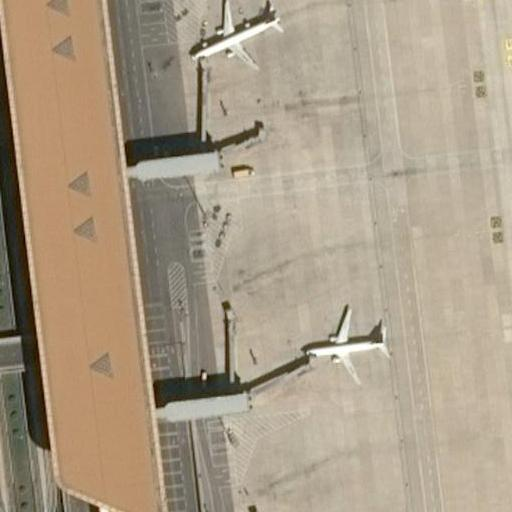Aircraft: (189, 0, 285, 79), (303, 301, 396, 379)
